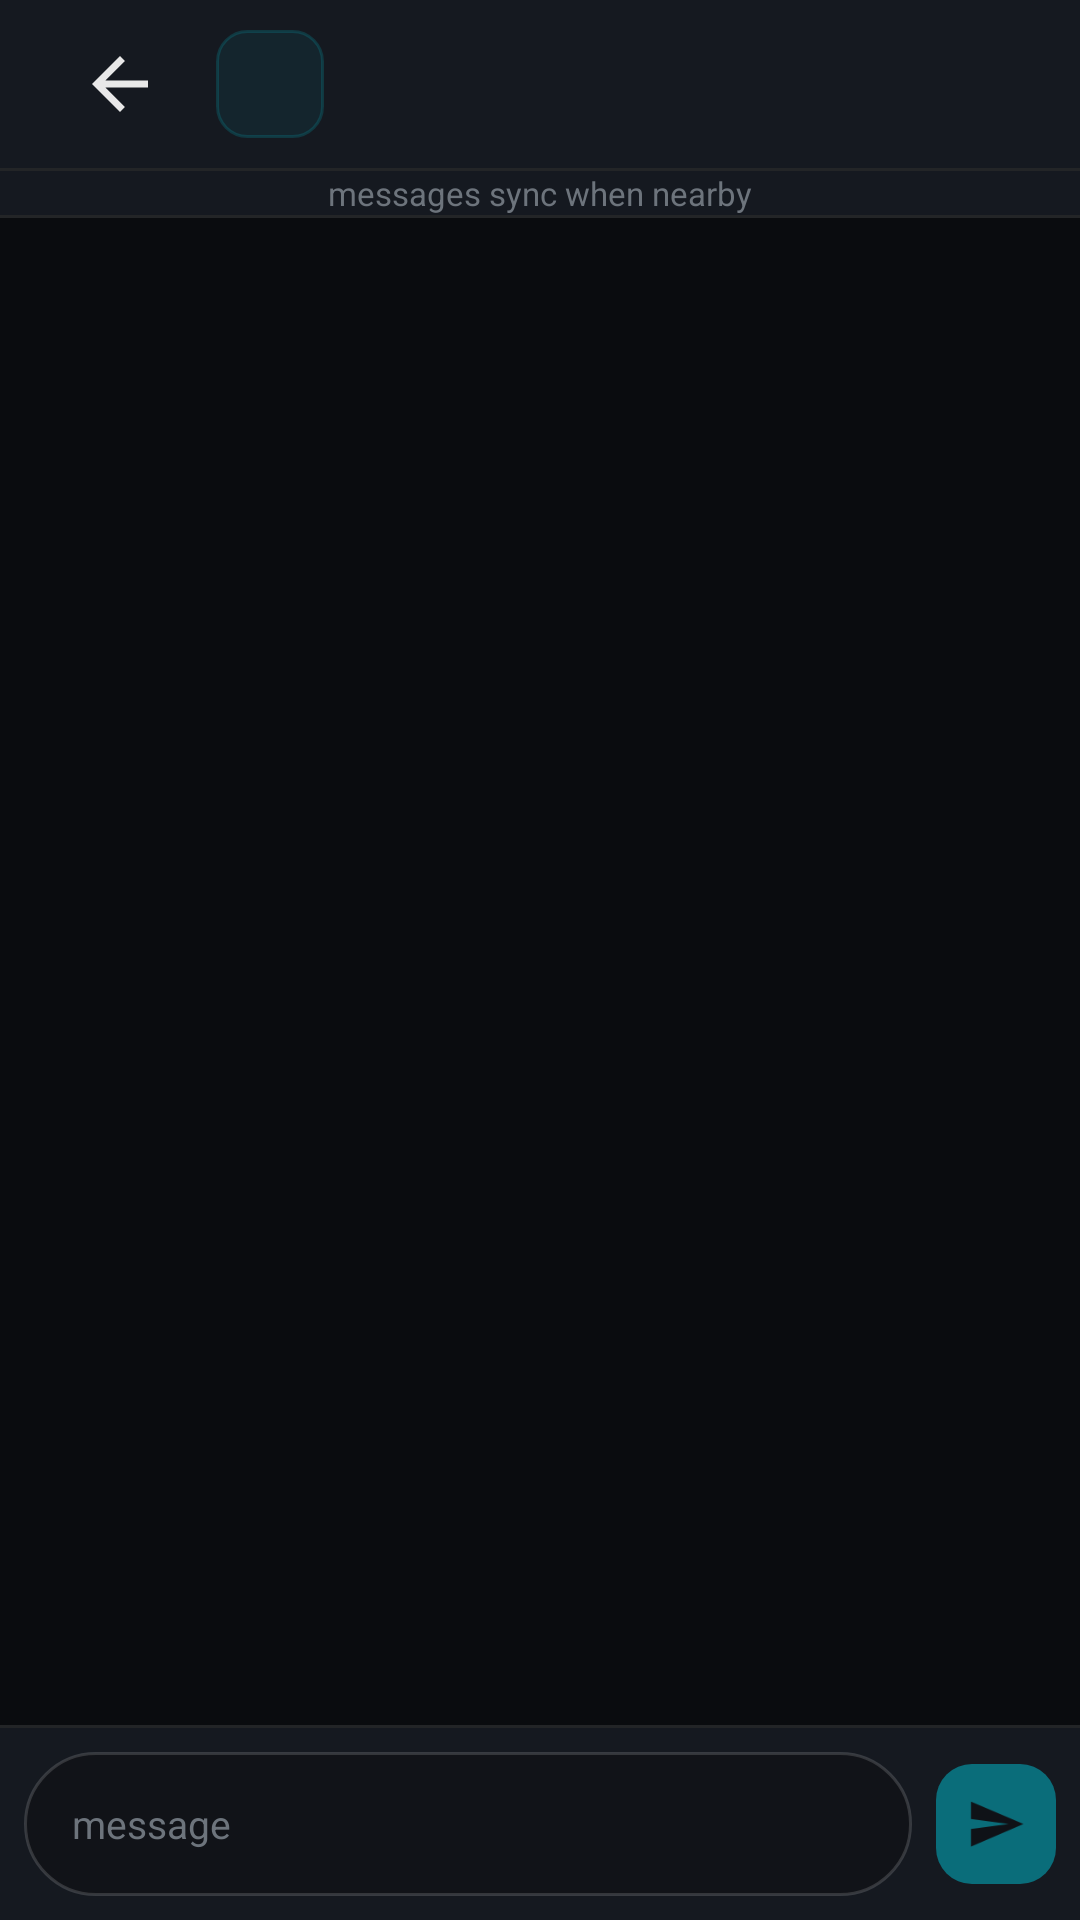

Locate icon controls on the screen. Image size 1080×1920, boxes as (x1, y1, x2, y2).
Back: (92, 56, 148, 112)
